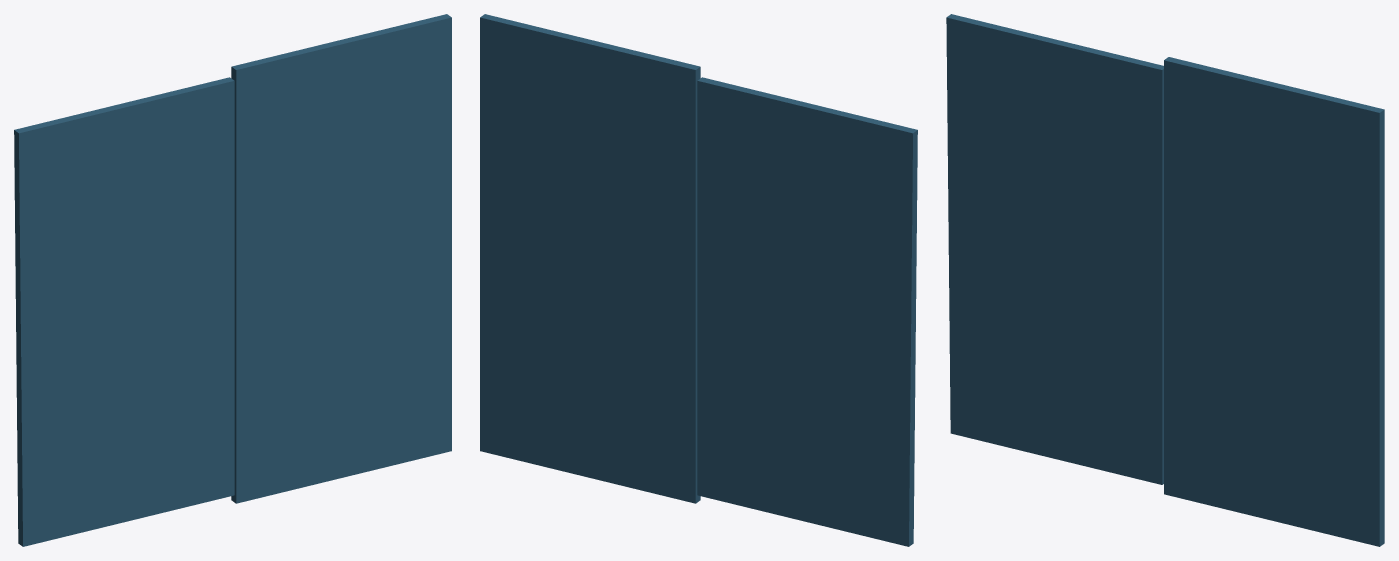
Rendered from Boards_Blocker_08.fbx.
3 renders of one model, left to right at view 1: azimuth 30°, elevation 25°; view 2: azimuth 150°, elevation 25°; view 3: azimuth 330°, elevation 25°, orthographic.
Parts seen in each view (by area): view 1: Boards_Blocker_08; view 2: Boards_Blocker_08; view 3: Boards_Blocker_08.
Boxes of the visible parts, bbox=[...] form: Boards_Blocker_08: bbox=[14, 14, 451, 546]; Boards_Blocker_08: bbox=[480, 14, 917, 546]; Boards_Blocker_08: bbox=[946, 14, 1384, 546].
Bounding box in the file's own units: 293 × 280 × 5.6.
